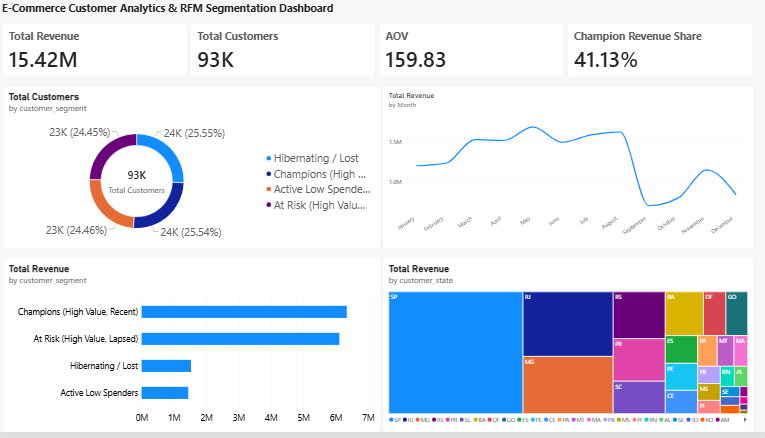

This screenshot's page, from the dashboard's own definition file:
{"tool":"powerbi","page":{"name":"Page 1","canvas":[1920,1080],"ordinal":0},"visuals":[{"type":"textbox","box":[10.1,0,1023,58],"z":0},{"type":"cardVisual","fields":{"Data":["_Measures.Total Revenue","_Measures.Total Customers","_Measures.AOV","_Measures.Champion Revenue Share"]},"box":[10.8,58.3,1879.2,136.1],"z":1},{"type":"donutChart","fields":{"Category":["public customer_rfm_segments.customer_segment"],"Y":["_Measures.Total Customers"]},"box":[10.8,211.7,948.2,410.4],"z":2},{"type":"clusteredBarChart","fields":{"Category":["public customer_rfm_segments.customer_segment"],"Y":["_Measures.Total Revenue"]},"box":[10.8,641.5,948.2,438.5],"z":3},{"type":"lineChart","fields":{"Category":["public v_customer_transactions.order_date.Variation.Date Hierarchy.Month"],"Y":["_Measures.Total Revenue"]},"box":[959,212,931,410],"z":4},{"type":"treemap","title":"Total Revenue","fields":{"Group":["public v_customer_transactions.customer_state"],"Values":["_Measures.Total Revenue"]},"box":[959,641.5,931,438.5],"z":5}]}

Visuals, with their boxes in screenshot pixels (x1, y1, x2, y2), scaled from the page's 1920x1080 canvas onto the 765x438 screenshot:
textbox: select_region(4, 0, 412, 24)
cardVisual - _Measures.Total Revenue x _Measures.Total Customers: select_region(4, 24, 753, 79)
donutChart - public customer_rfm_segments.customer_segment x _Measures.Total Customers: select_region(4, 86, 382, 252)
clusteredBarChart - public customer_rfm_segments.customer_segment x _Measures.Total Revenue: select_region(4, 260, 382, 437)
lineChart - public v_customer_transactions.order_date.Variation.Date Hierarchy.Month x _Measures.Total Revenue: select_region(382, 86, 753, 252)
"Total Revenue" treemap: select_region(382, 260, 753, 437)
